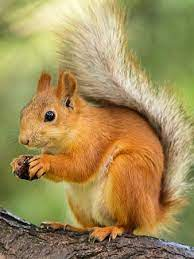squirrel: (14, 22, 188, 234)
